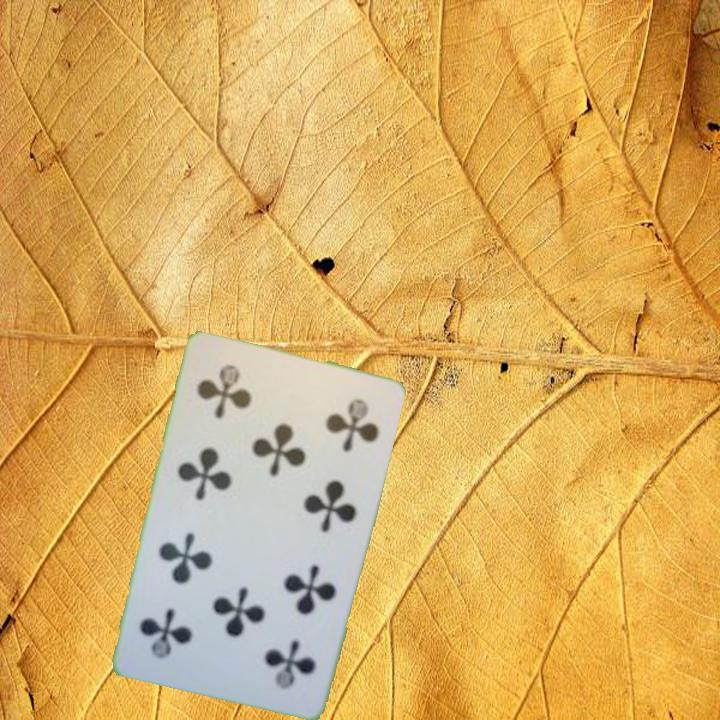c_10.png: (219, 599, 335, 704), (181, 348, 297, 453)
